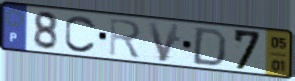7: (231, 28, 263, 72)
8: (32, 10, 60, 52)
C: (63, 13, 98, 54)
D: (190, 26, 229, 68)
R: (108, 17, 144, 60)
V: (145, 20, 183, 64)
